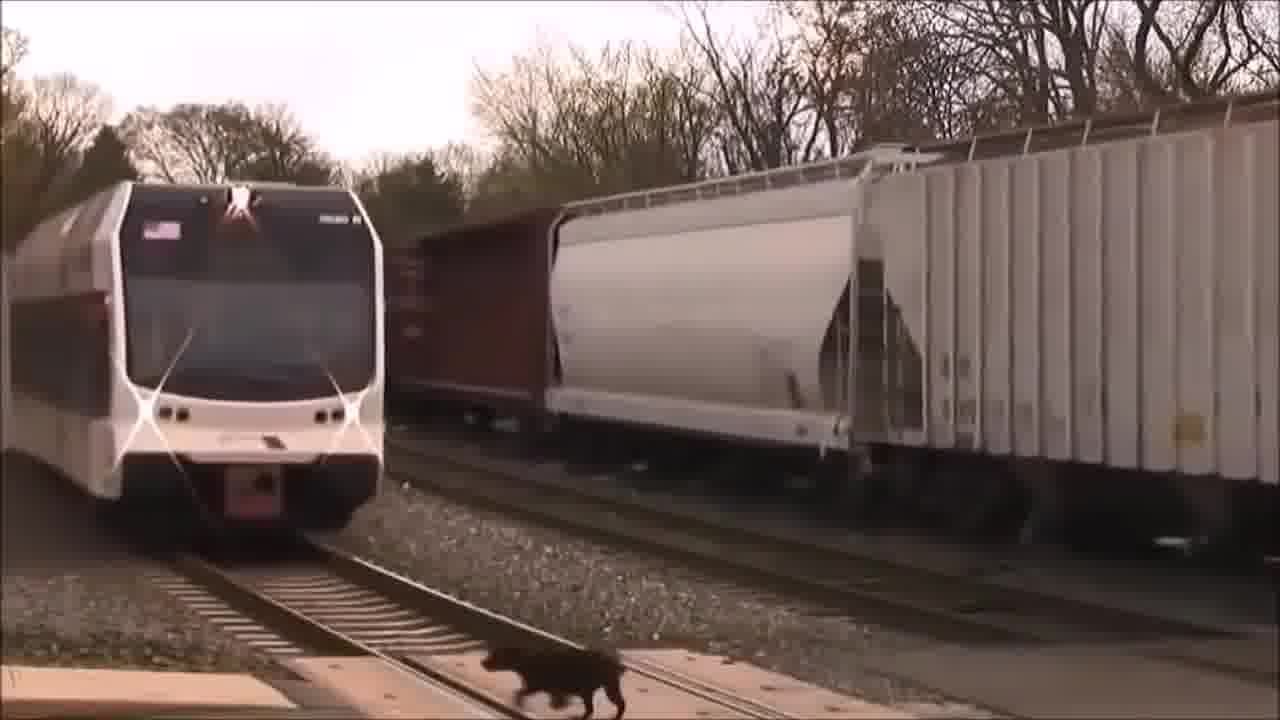crossing railway track: (217, 617, 829, 720)
